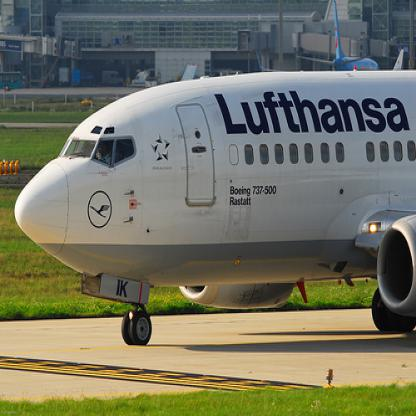aeroplane: (0, 71, 415, 343), (328, 0, 378, 71)
